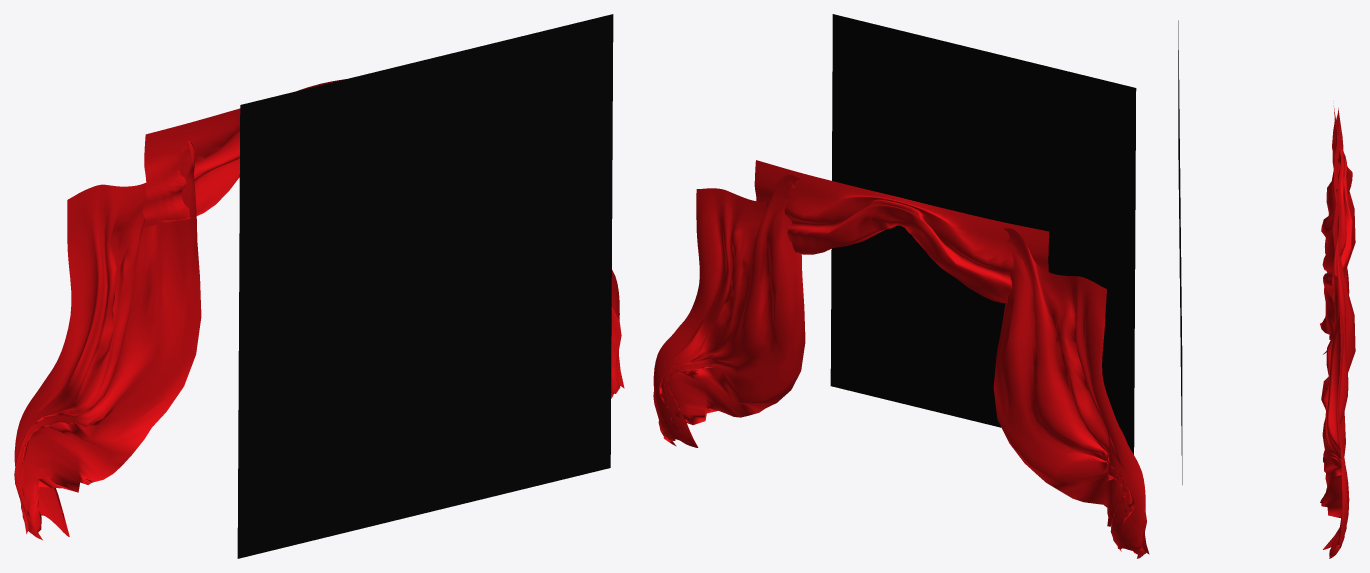
Rendered from 26_04_2020_cortinas.fbx.
3 views of the same model, side by side, from view 1: azimuth 30°, elevation 25°; view 2: azimuth 150°, elevation 25°; view 3: azimuth 270°, elevation 25° (orthographic). The views are drawn at different scales.
Parts seen in each view (by area): view 1: Plane.003, Plane.001, Plane.002; view 2: Plane.003, Plane.001, Plane.002; view 3: Plane.001, Plane.002, Plane.003.
Part boxes in pixels (x1,y1,x2,y2): Plane.003: (237, 14, 613, 558); Plane.001: (14, 140, 624, 540); Plane.002: (143, 79, 345, 227); Plane.003: (830, 14, 1136, 454); Plane.001: (653, 175, 1149, 558); Plane.002: (754, 160, 1049, 303); Plane.001: (1320, 108, 1355, 558); Plane.002: (1332, 106, 1352, 302); Plane.003: (1178, 20, 1182, 484).
Size of the model in its own units: 2538 by 1932 by 837.
